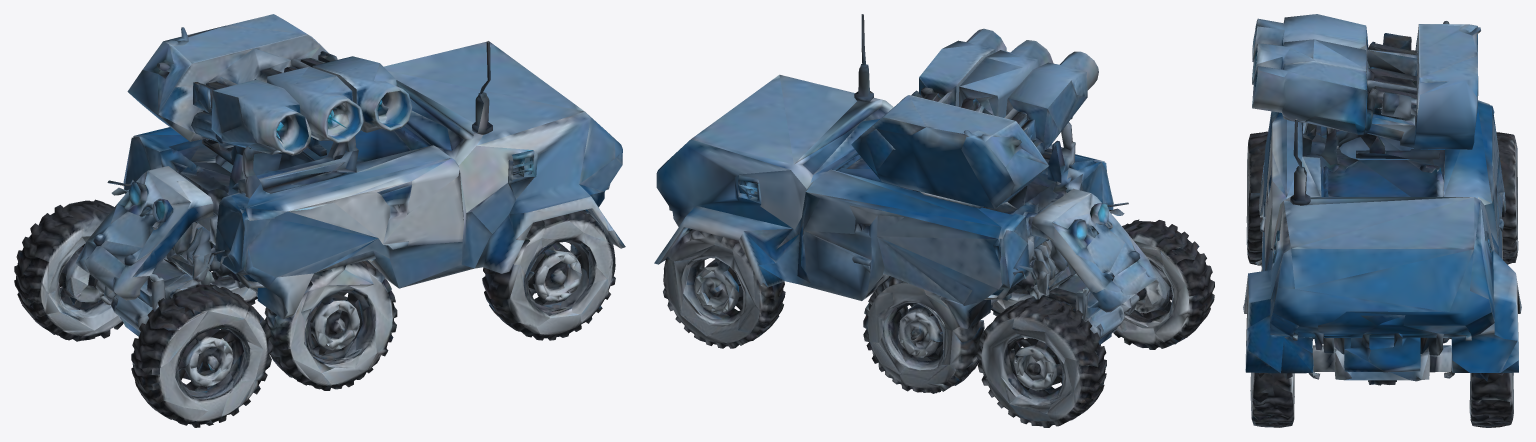
Rendered from fed_hero_mortar_alt.glb.
The picture shows the model from 3 angles, left to right: view 1: azimuth 30°, elevation 25°; view 2: azimuth 150°, elevation 25°; view 3: azimuth 270°, elevation 25°; orthographic projection. The views are drawn at different scales.
Bounding box in the file's own units: 1.9 × 1.08 × 0.9698.
Materials: 1 (1 with a texture image).
